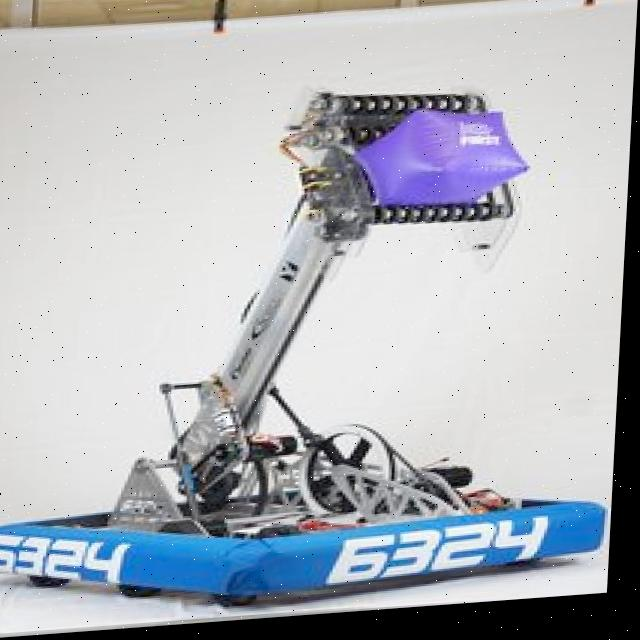robot: (0, 59, 636, 628)
